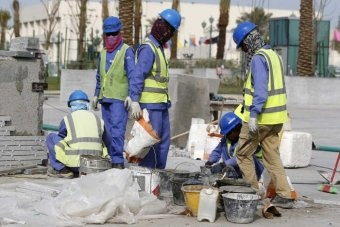blue: (231, 18, 261, 52), (153, 6, 181, 39), (219, 111, 241, 143), (101, 15, 123, 44), (67, 88, 90, 110)
